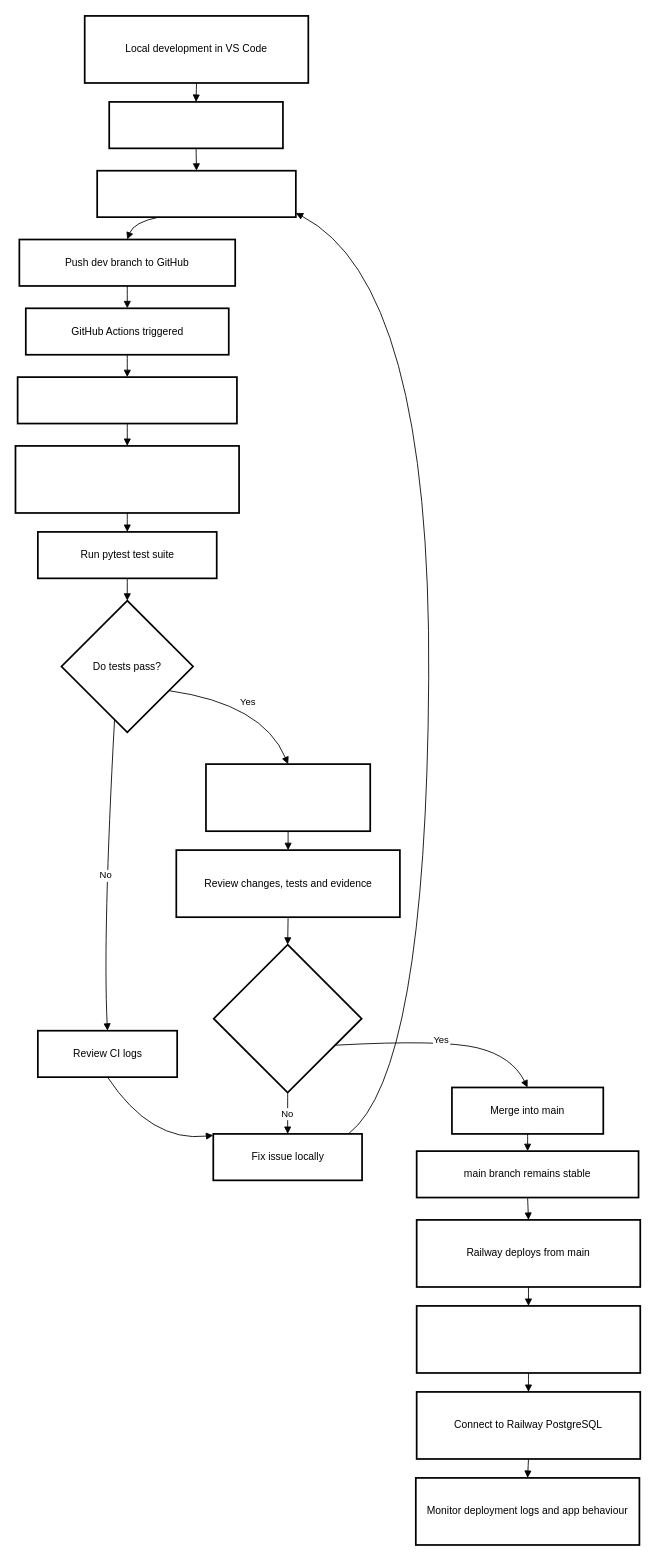
The diagram is 656 pixels wide and 1560 high, and some of its shapes have lost their labels. The shapes that lost their labels are listed below. From the top down, each one's centre as x and y in pixels, then its label:
(195,125): Work on dev branch
(196,193): Commit focused change
(126,400): Set up Python environment
(127,479): Install dependencies from requirements.txt
(288,797): Open Pull Request dev to main
(287,1018): Ready to merge?
(528,1339): Run Flask app with Gunicorn
